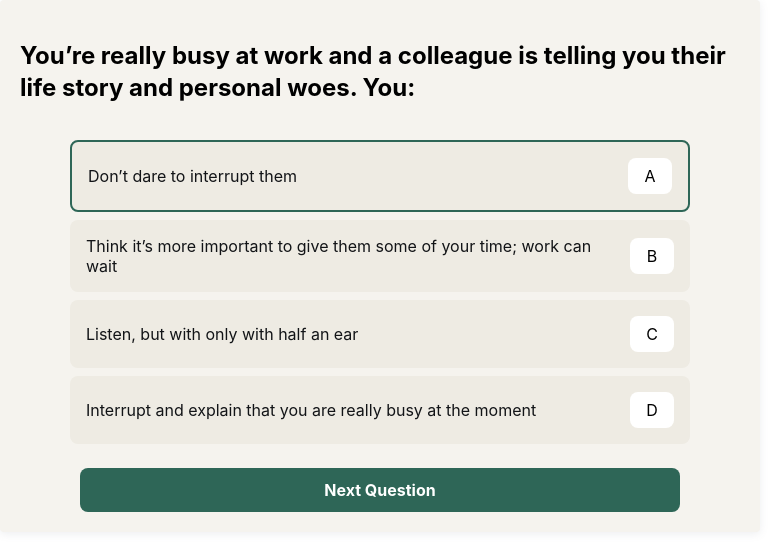
Test: should show see results button on last question
What coordinates should you click on to do the following:
click the text "Next Question"
I would click on:
 (380, 490)
Its box is [324,480,436,500].
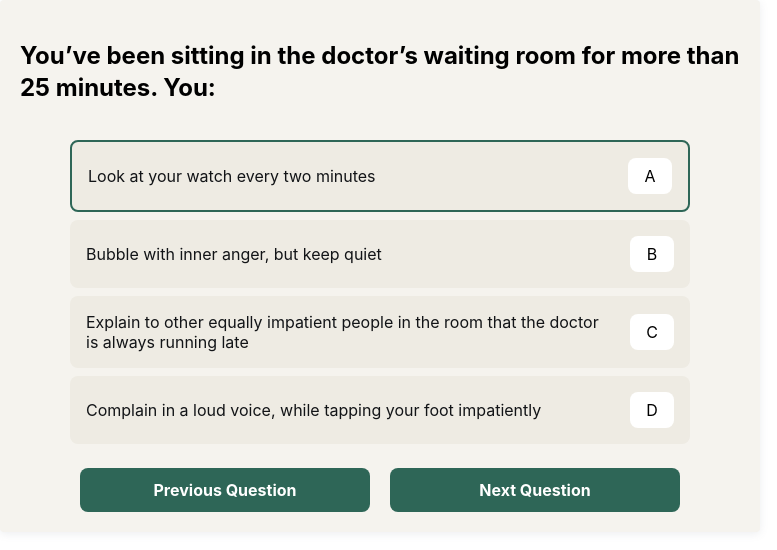
What coordinates should you click on to do the following:
click the text "Next Question"
I would click on:
 (535, 490)
Its box is [479,480,591,500].
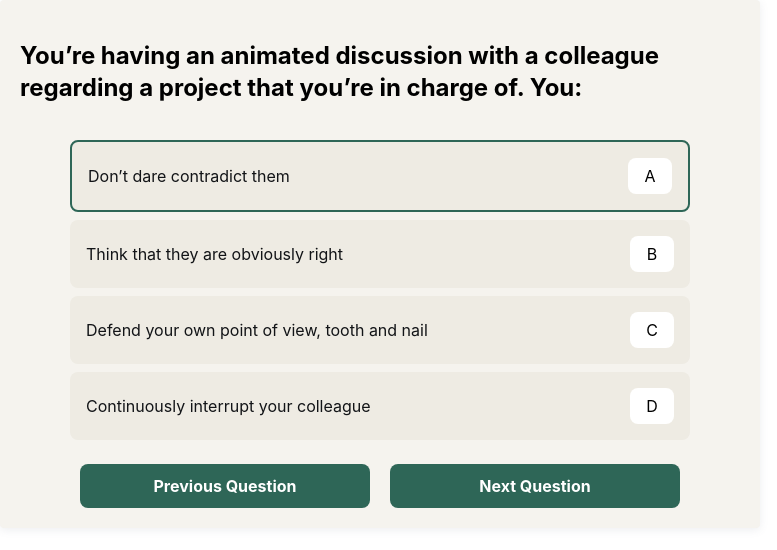
What coordinates should you click on to do the following:
click the text "Next Question"
I would click on:
 (535, 486)
Its box is [479,476,591,496].
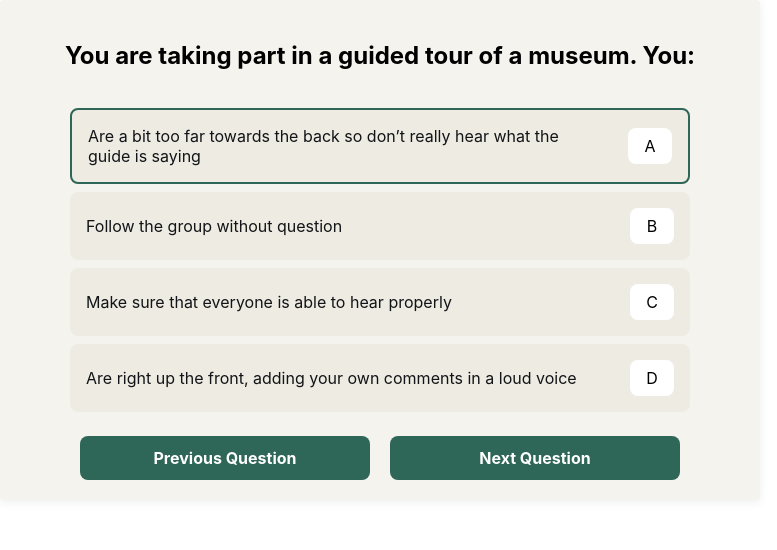
What coordinates should you click on to do the following:
click the text "Next Question"
I would click on:
 (535, 458)
Its box is [479,448,591,468].
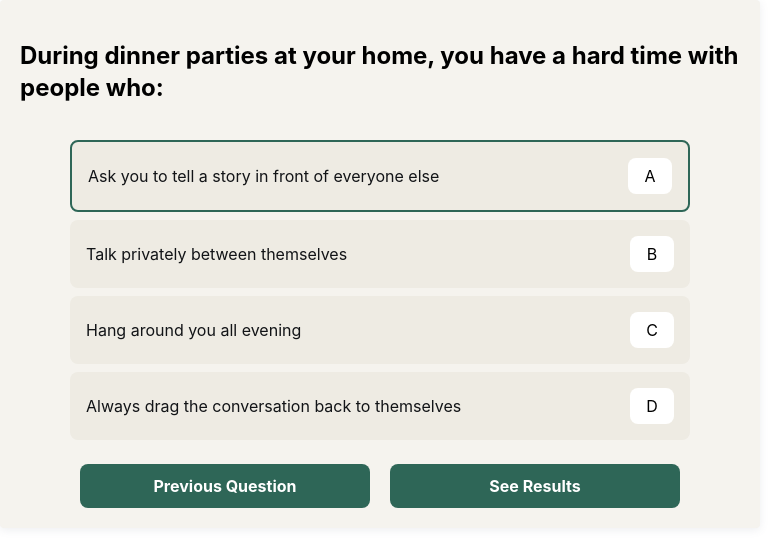
Expected: the text "See Results" is shown, [489,476,581,496]
